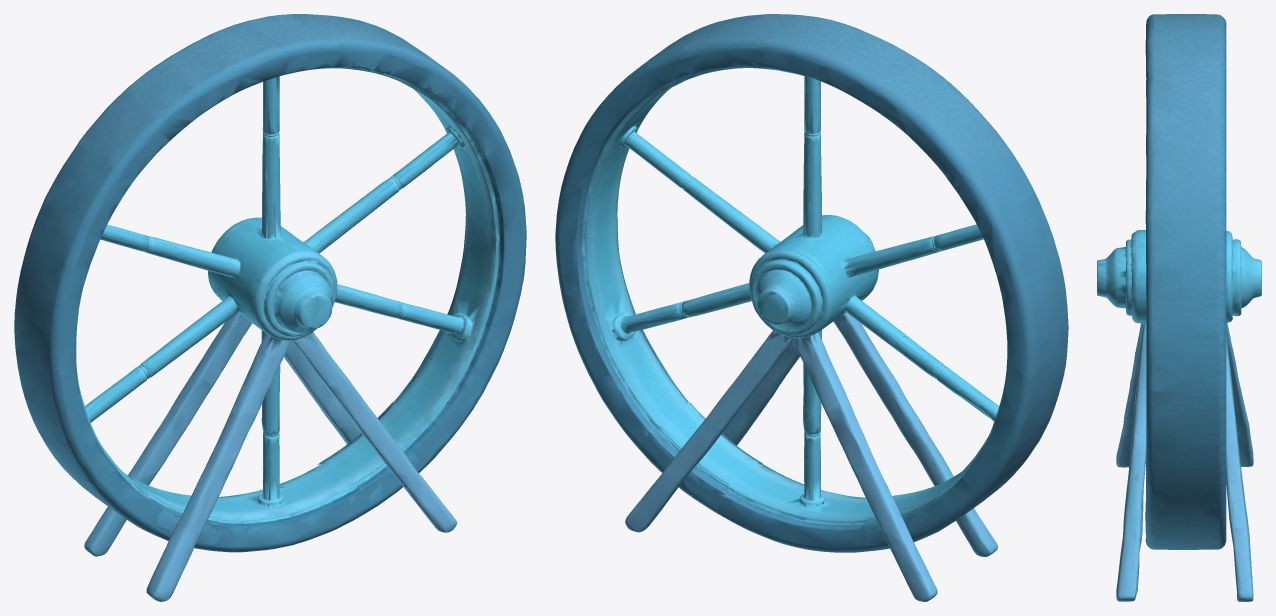
File: wheel.glb
3 renders of one model, left to right at view 1: azimuth 30°, elevation 25°; view 2: azimuth 150°, elevation 25°; view 3: azimuth 270°, elevation 25°, orthographic. The views are drawn at different scales.
Visible parts, largest first — view 1: wheel_spin, wheel_stand; view 2: wheel_spin, wheel_stand; view 3: wheel_spin, wheel_stand.
Boxes of the visible parts, box(x1,y1,x2,y2) form: wheel_spin: box(14, 14, 526, 552); wheel_stand: box(84, 284, 457, 601); wheel_spin: box(555, 14, 1068, 552); wheel_stand: box(625, 312, 997, 601); wheel_spin: box(1097, 14, 1261, 540); wheel_stand: box(1116, 310, 1253, 601).
Size of the model in its own units: 1.87 by 1.9 by 0.5761.
Materials: 1 (1 with a texture image).
